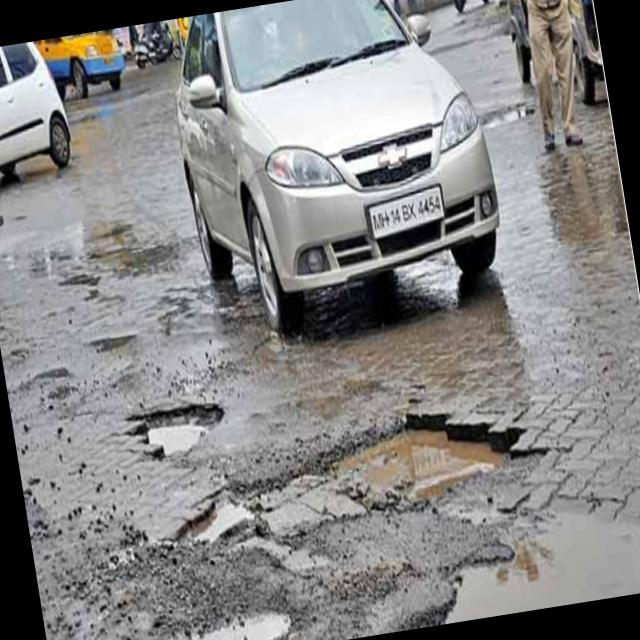Pothole: (320, 402, 534, 514), (474, 497, 640, 617), (162, 485, 274, 566), (126, 384, 234, 464), (182, 596, 295, 640), (483, 96, 533, 140)
